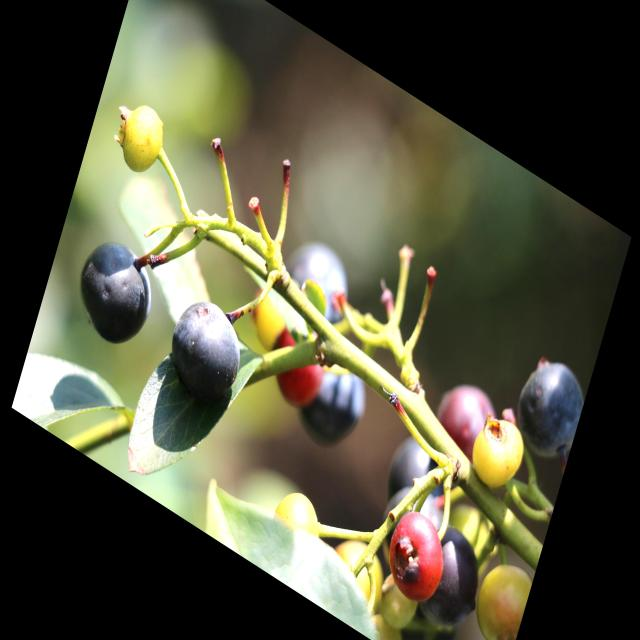blueberry: (156, 276, 258, 428), (275, 219, 372, 356), (68, 224, 163, 360), (284, 330, 374, 469), (505, 337, 592, 472), (415, 510, 497, 640), (380, 409, 461, 529)
blueberry-halfripe: (380, 500, 452, 614), (431, 370, 501, 473), (262, 315, 331, 416)
blueberry-unripe: (465, 407, 529, 504), (468, 549, 534, 640), (111, 92, 171, 186), (269, 482, 327, 560)
